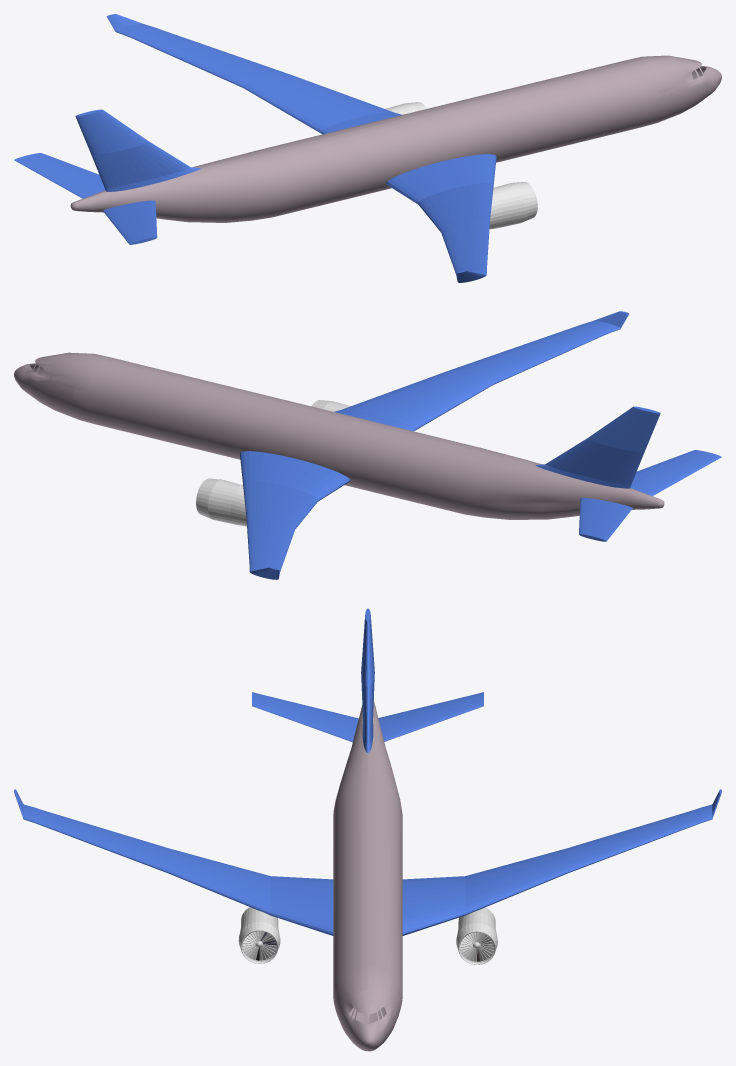
The model's file is airplane.glb.
The picture shows the model from 3 angles, top to bottom: view 1: azimuth 30°, elevation 25°; view 2: azimuth 150°, elevation 25°; view 3: azimuth 270°, elevation 25°; orthographic projection.
Parts seen in each view (by area): view 1: Circle.001, Cylinder, Cylinder.001, Cylinder.002, Cylinder.003; view 2: Circle.001, Cylinder, Cylinder.001, Cylinder.002, Cylinder.009; view 3: Circle.001, Cylinder, Cylinder.002, Cylinder.001, Cylinder.009, Cylinder.003.
Part boxes in pixels (bbox=[...]): Circle.001: bbox=[70, 55, 721, 222]; Cylinder: bbox=[106, 14, 496, 282]; Cylinder.001: bbox=[75, 109, 200, 191]; Cylinder.002: bbox=[14, 153, 157, 244]; Cylinder.003: bbox=[489, 182, 537, 229]; Circle.001: bbox=[14, 352, 664, 519]; Cylinder: bbox=[240, 311, 629, 579]; Cylinder.001: bbox=[535, 406, 660, 488]; Cylinder.002: bbox=[579, 450, 721, 541]; Cylinder.009: bbox=[196, 478, 246, 526]; Circle.001: bbox=[333, 700, 402, 1051]; Cylinder: bbox=[14, 789, 721, 935]; Cylinder.002: bbox=[252, 692, 483, 742]; Cylinder.001: bbox=[361, 608, 374, 752]; Cylinder.009: bbox=[456, 907, 497, 964]; Cylinder.003: bbox=[238, 907, 280, 963].
Size of the model in its own units: 63.83 by 15.05 by 59.81.
